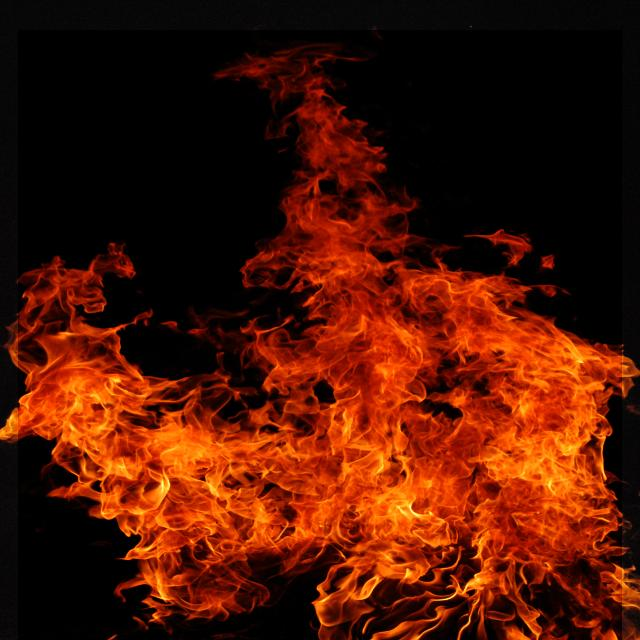Fire: (18, 30, 622, 640)
